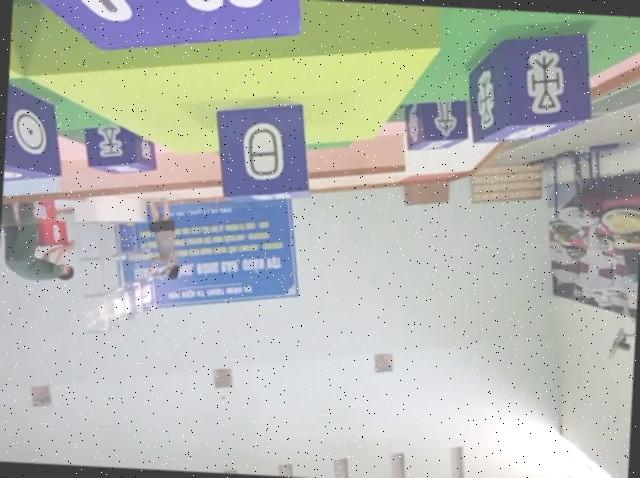R2 Fake Blue: (213, 96, 317, 203), (403, 94, 470, 150)
R2 Real Blue: (467, 23, 598, 143), (3, 78, 64, 183), (81, 122, 157, 175)
